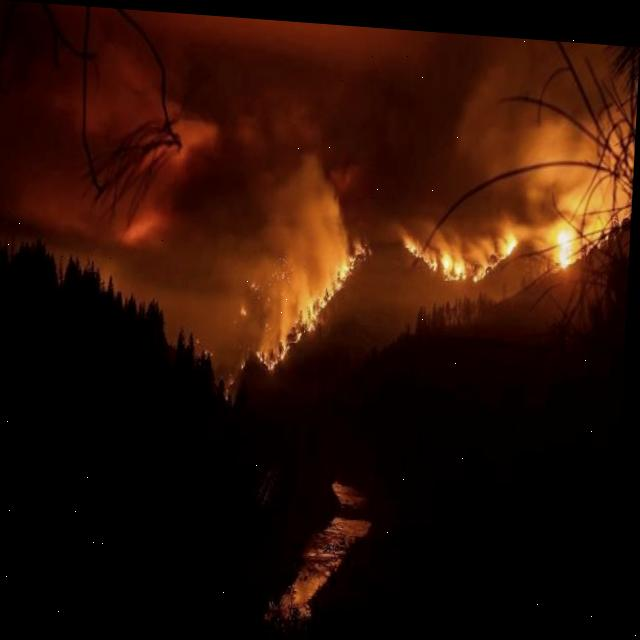fire: (406, 225, 527, 278), (556, 220, 576, 266)
smoke: (100, 138, 359, 385), (453, 30, 639, 233), (399, 211, 553, 254)
